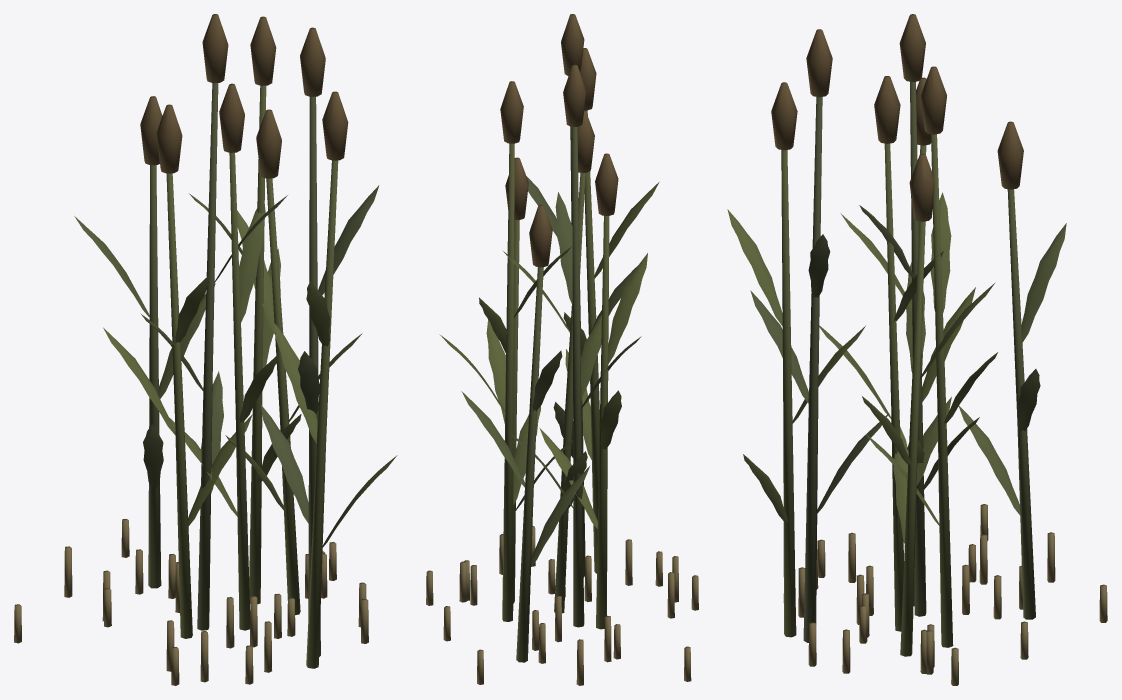
Rendered from reed-6-lod0.gltf.
3 views of the same model, side by side, from view 1: azimuth 30°, elevation 25°; view 2: azimuth 150°, elevation 25°; view 3: azimuth 270°, elevation 25° (orthographic). The views are drawn at different scales.
Parts seen in each view (by area): view 1: Reed 6 L0; view 2: Reed 6 L0; view 3: Reed 6 L0.
Boxes of the visible parts, x1,y1,x2,y2 form: Reed 6 L0: (14,14,397,685); Reed 6 L0: (426,14,698,685); Reed 6 L0: (727,14,1107,685).
Bounding box in the file's own units: 0.625 × 1.21 × 0.683.
